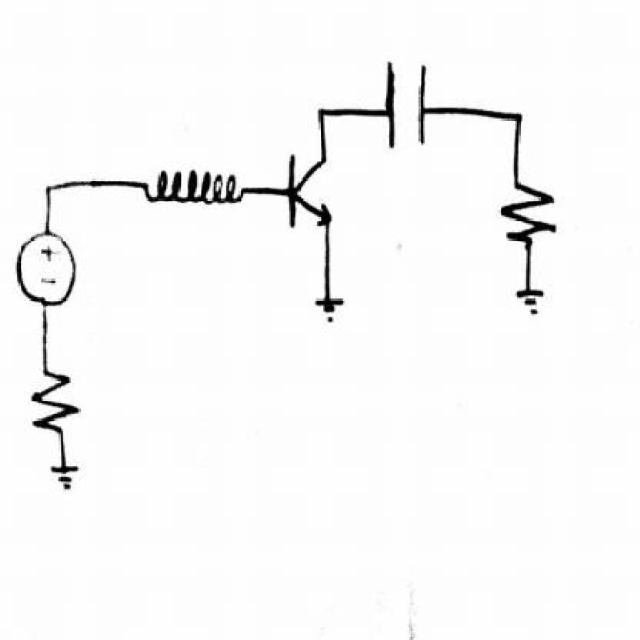capacitor: (379, 58, 441, 156)
ground: (36, 455, 96, 504), (308, 287, 352, 338), (511, 286, 557, 330)
inductor: (144, 162, 244, 216)
resistor: (486, 170, 563, 250), (26, 365, 90, 438)
transistor: (280, 148, 346, 233)
voltage_source: (8, 218, 88, 310)
